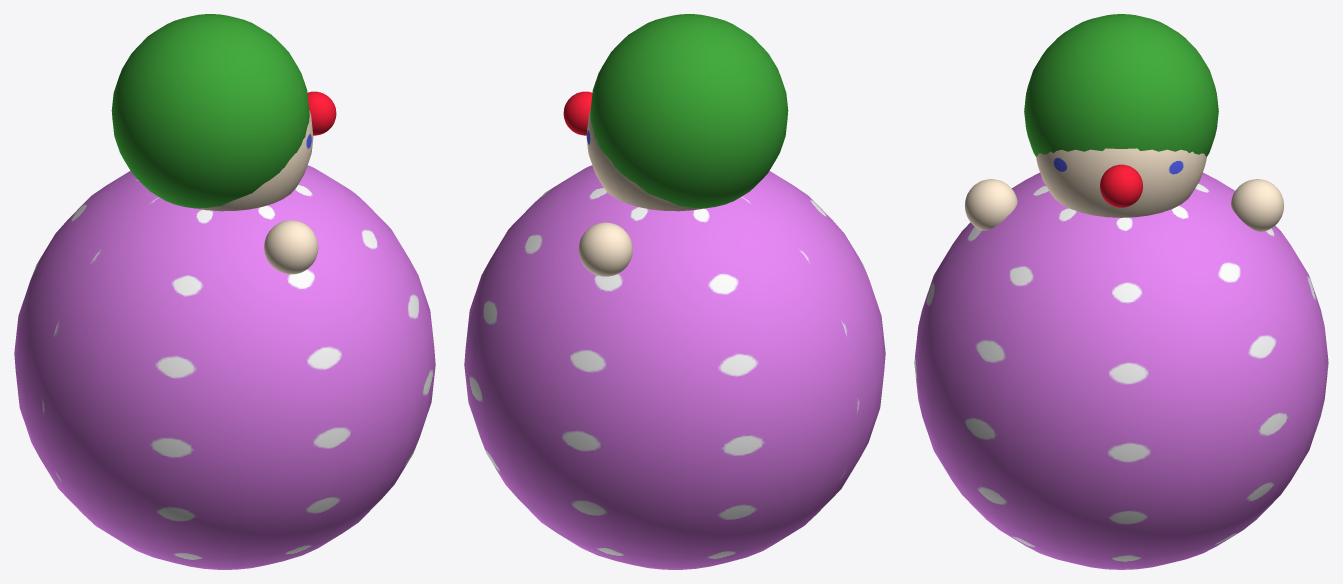
The model's file is clown_pink.gltf.
3 views of the same model, side by side, from view 1: azimuth 30°, elevation 25°; view 2: azimuth 150°, elevation 25°; view 3: azimuth 270°, elevation 25° (orthographic).
Visible parts, largest first — view 1: Clown; view 2: Clown; view 3: Clown.
Part boxes in pixels (bbox=[...]): Clown: bbox=[14, 14, 435, 569]; Clown: bbox=[464, 14, 885, 569]; Clown: bbox=[914, 14, 1328, 569].
Bounding box in the file's own units: 2 × 2.77 × 2.
1 material, 1 textured.
